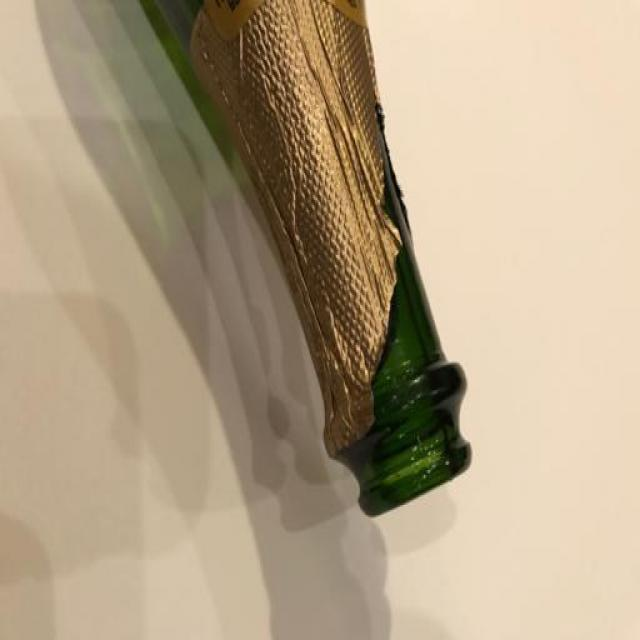glass: (140, 0, 475, 522)
